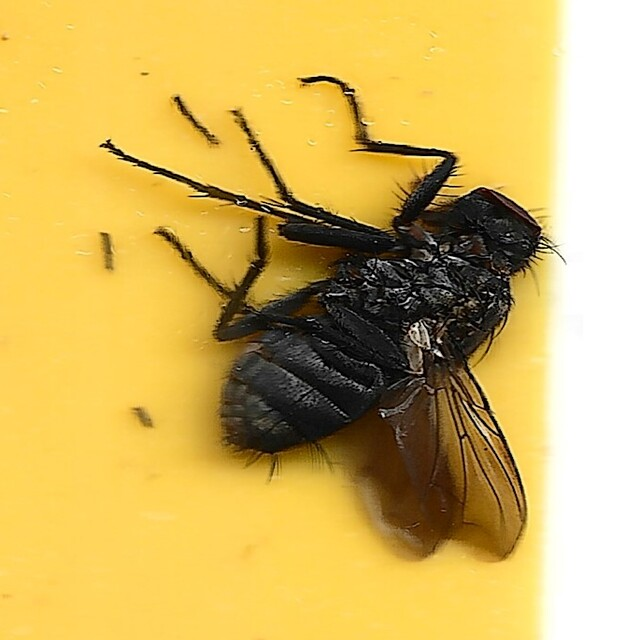Brachycera: (93, 75, 547, 565)
